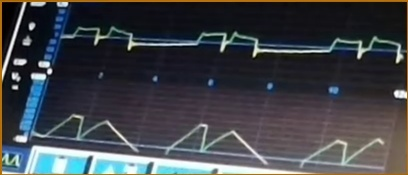Double_Triggering Flow: (68, 10, 403, 71)
Double_Triggering Volume: (41, 96, 384, 169)
